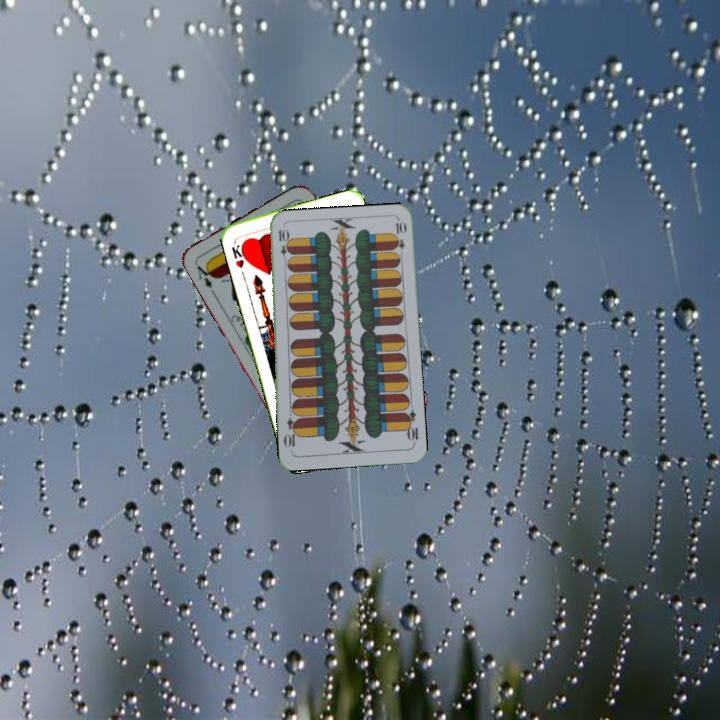E10: (400, 406, 421, 447), (274, 225, 290, 266)
EA: (191, 259, 217, 296)
HK: (227, 237, 251, 271)
